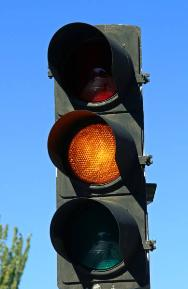yellow_light: (48, 22, 156, 289)
